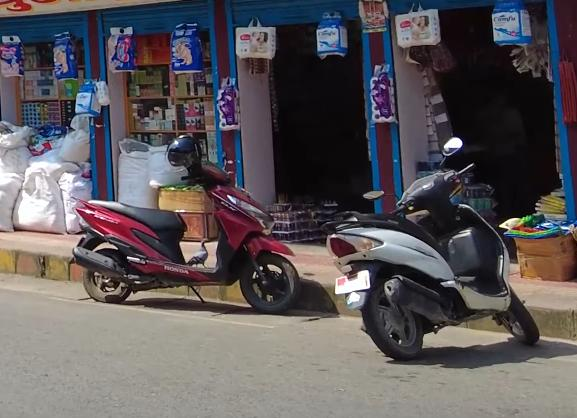scooter: (320, 126, 554, 361), (59, 139, 301, 321)
